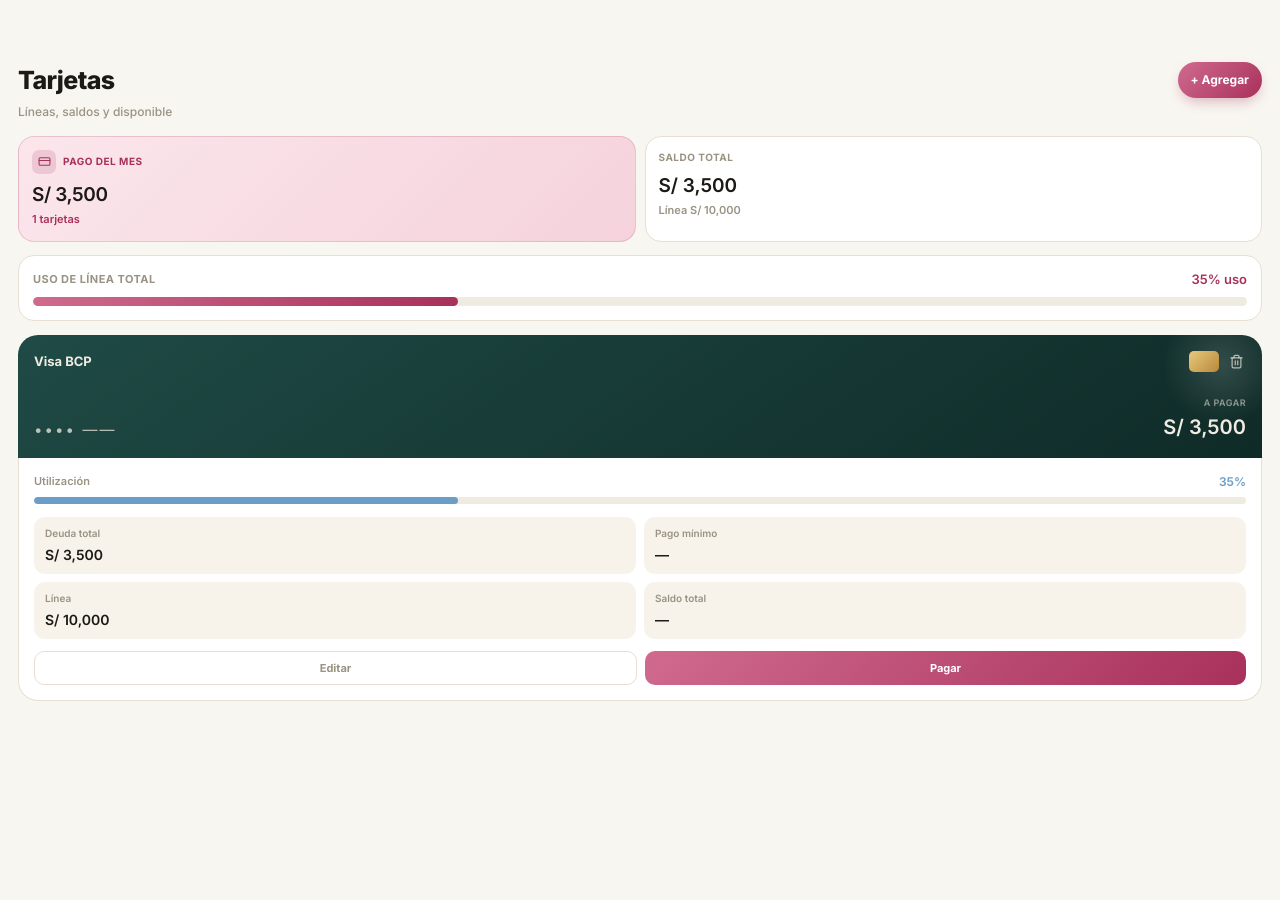
Test: should TarjetasView › should save edit and update tarjeta
The image size is (1280, 900).
Click the button with test id "edit-button".
click(336, 668)  # box [34,650,637,685]
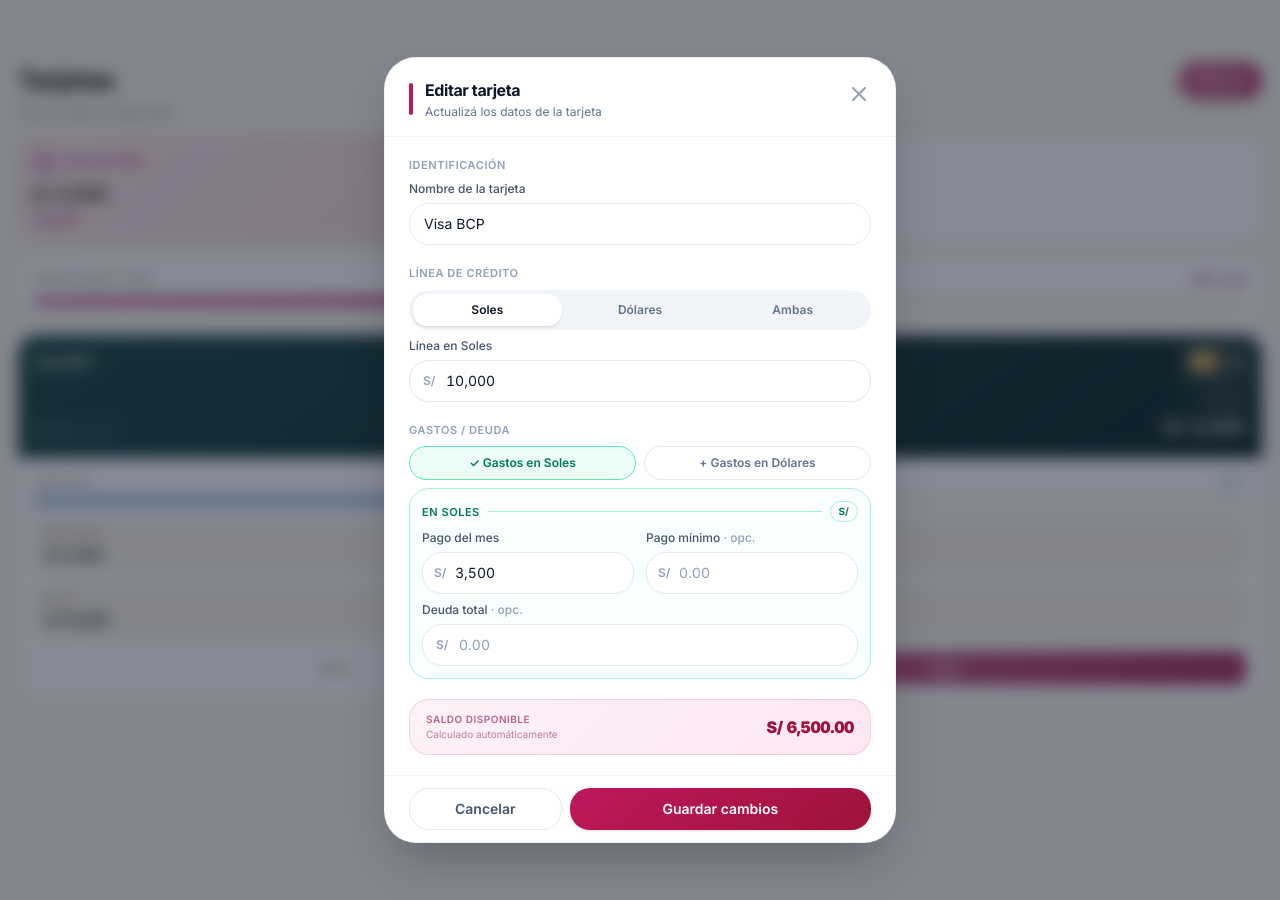
Replace the text in the field with test id "descripcion-input" with "Visa Editada" at (640, 224), box [409,203,871,245]
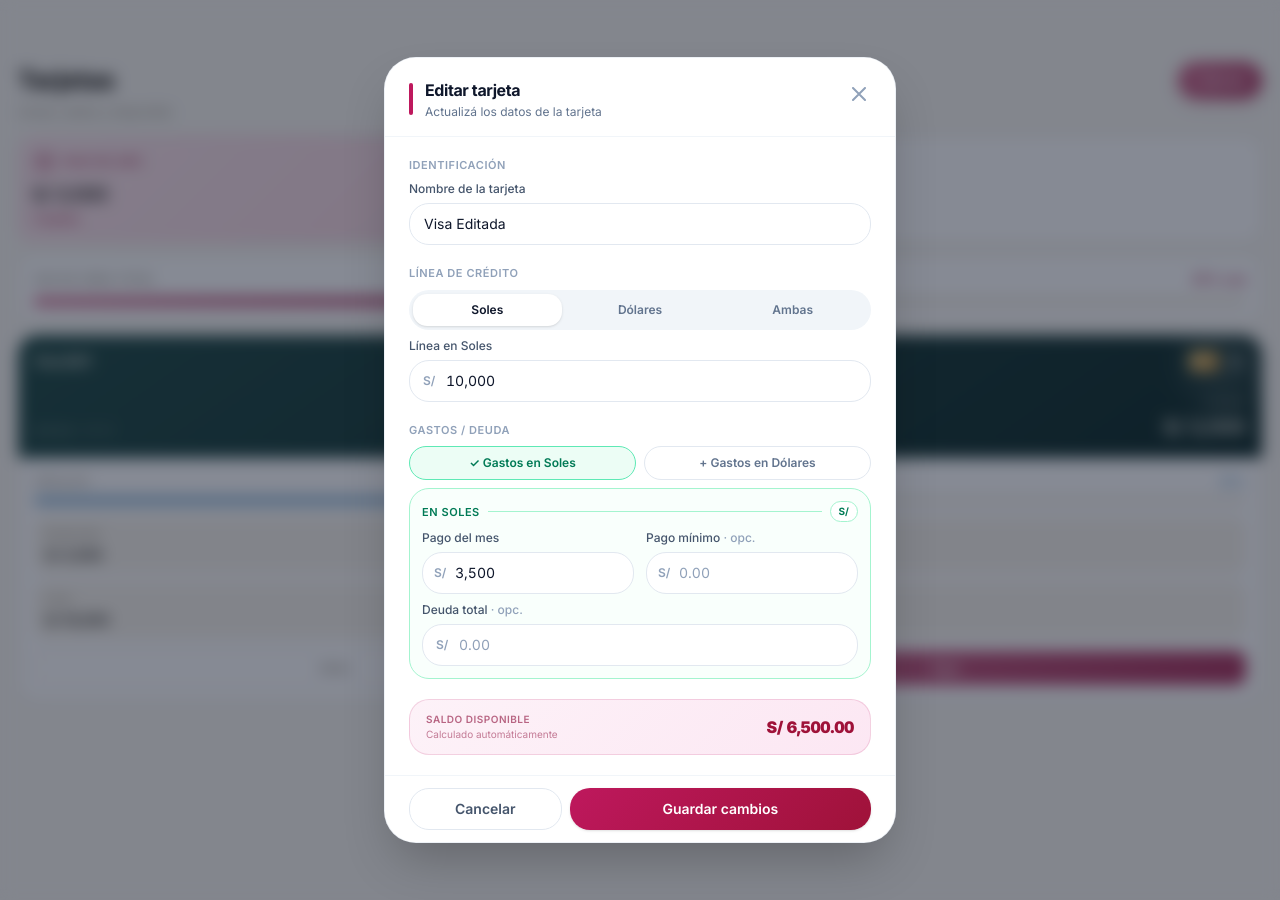
Click the button with test id "submit-button".
click(720, 809)  # box [570,788,871,830]
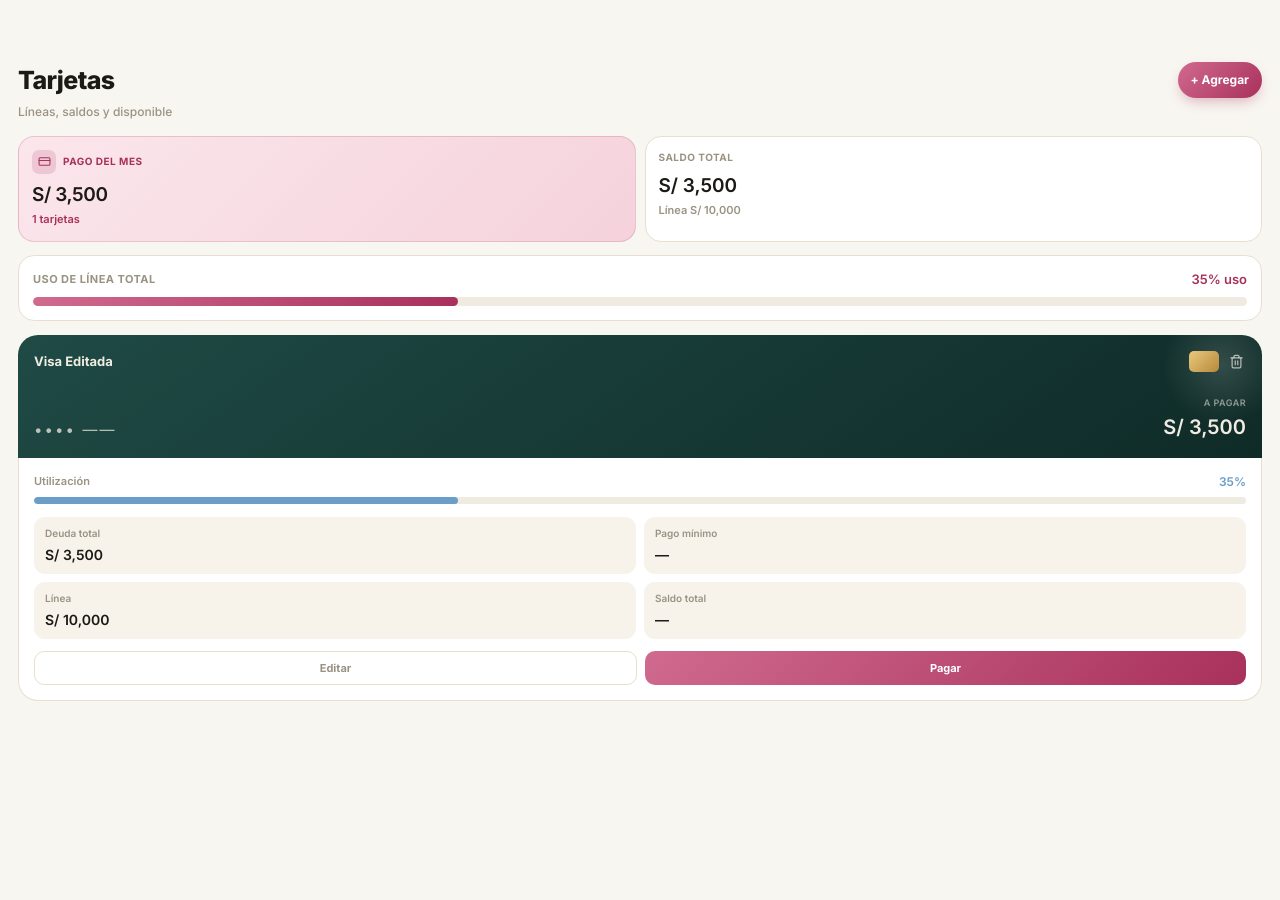
Result: the text "Visa Editada" is shown at [34,352,113,371]
